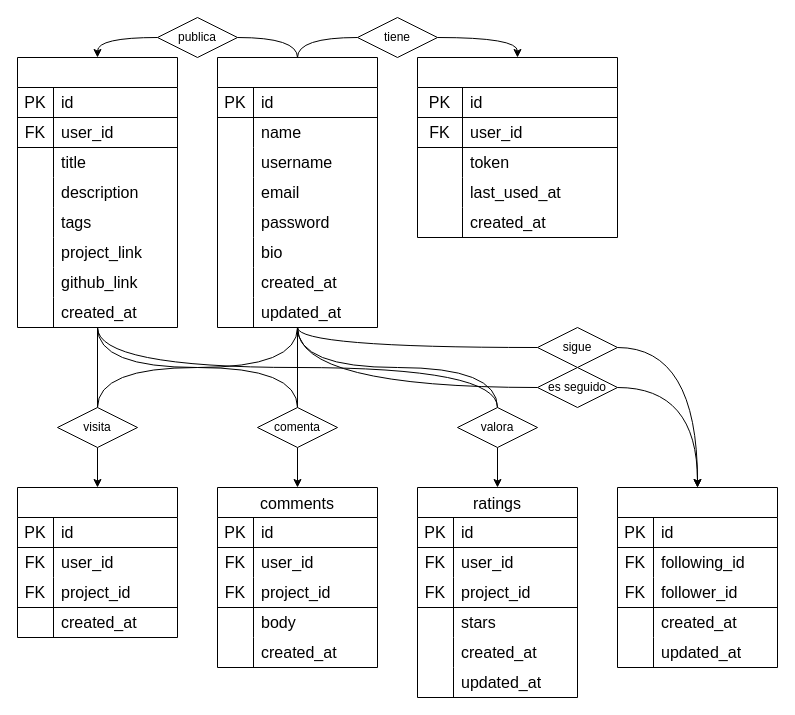
This 795x715 diagram has some shape labels left out. The shapes that lost their labels are listed below. From the top down, each one's box as (x1, y1, x2, y2) in pixels, then its label:
(416, 56, 618, 238): personal_access_tokens
(16, 56, 178, 328): projects
(216, 56, 378, 328): users
(16, 486, 178, 638): project_views
(616, 486, 778, 668): follows
